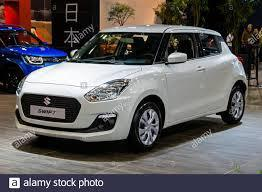Hatchback: (15, 23, 250, 153), (0, 22, 69, 92)
